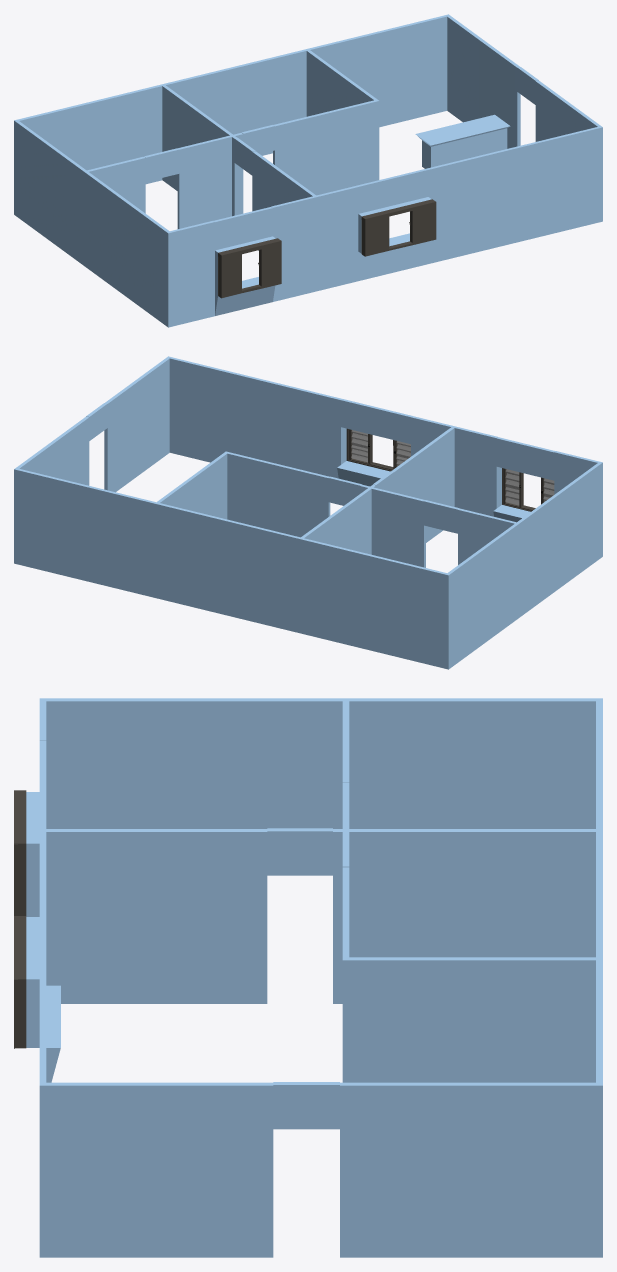
Rendered from casafinal.obj.
The picture shows the model from 3 angles, top to bottom: view 1: azimuth 30°, elevation 25°; view 2: azimuth 150°, elevation 25°; view 3: azimuth 270°, elevation 25°; orthographic projection. The views are drawn at different scales.
Visible parts, largest first — view 1: Plane; view 2: Plane; view 3: Plane.
Part boxes in pixels (<box>): Plane: <box>14,14,602,327</box>; Plane: <box>14,356,602,669</box>; Plane: <box>14,698,602,1257</box>.
Bounding box in the file's own units: 3.37 × 0.7 × 2.17.
